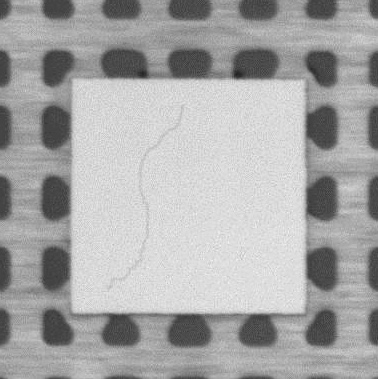DIE_CRACK: (107, 106, 185, 291)
